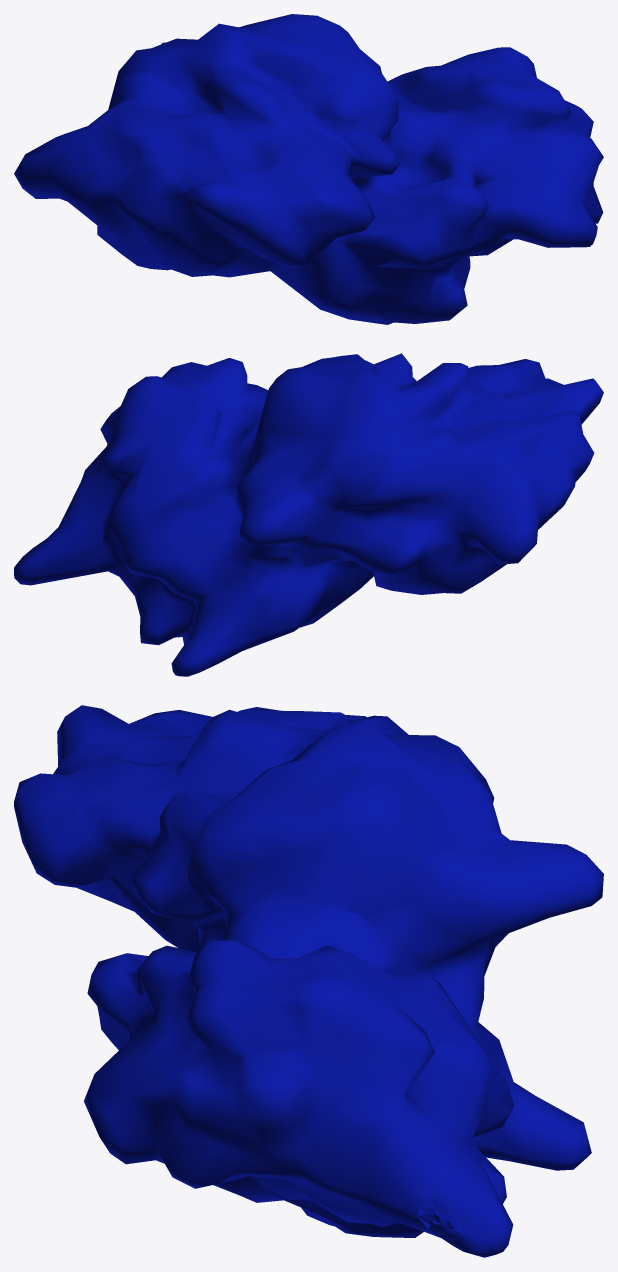
File: JAK_1.glb
The picture shows the model from 3 angles, top to bottom: view 1: azimuth 30°, elevation 25°; view 2: azimuth 150°, elevation 25°; view 3: azimuth 270°, elevation 25°; orthographic projection. The views are drawn at different scales.
Parts seen in each view (by area): view 1: JAK 1; view 2: JAK 1; view 3: JAK 1.
Part boxes in pixels (box(x1,y1,x2,y2)): JAK 1: box(14, 14, 603, 324); JAK 1: box(14, 353, 603, 676); JAK 1: box(14, 705, 603, 1257).
Bounding box in the file's own units: 7.08 × 4.13 × 5.42.
Materials: 1 (1 with a texture image).
